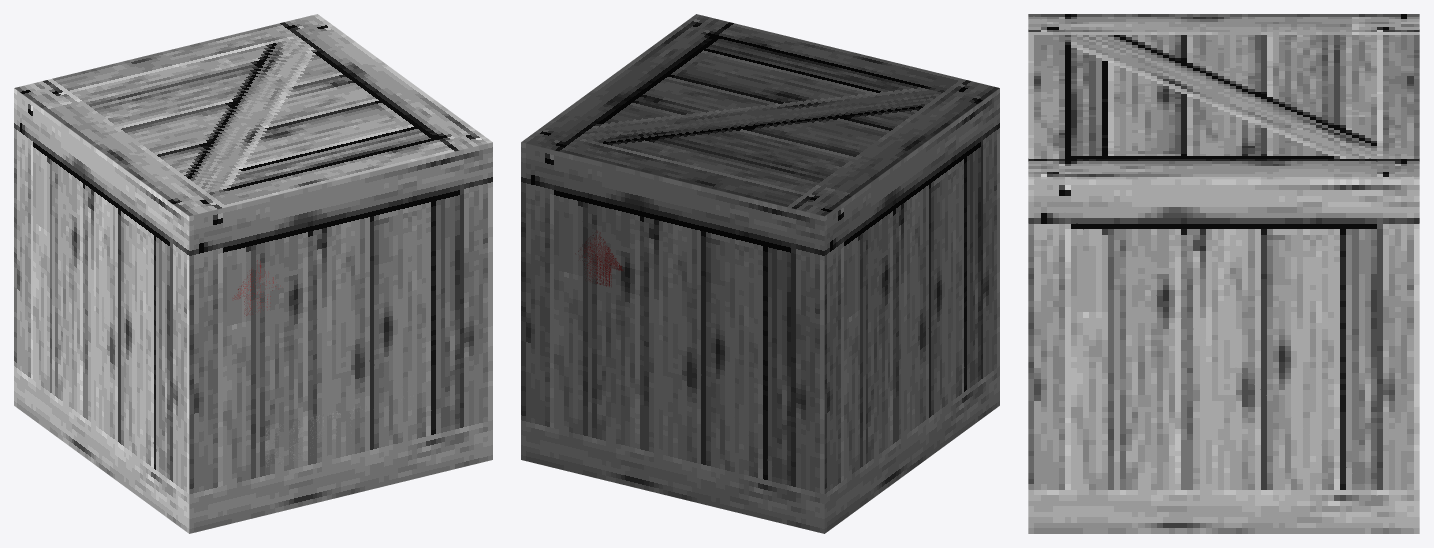
File: Pwood_sm_crate6Z.obj
The picture shows the model from 3 angles, left to right: view 1: azimuth 30°, elevation 25°; view 2: azimuth 150°, elevation 25°; view 3: azimuth 270°, elevation 25°; orthographic projection. The views are drawn at different scales.
Size of the model in its own units: 840 by 840 by 840.
Materials: 4 (4 with a texture image).
